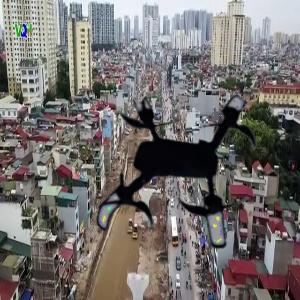drone: (83, 81, 279, 277)
